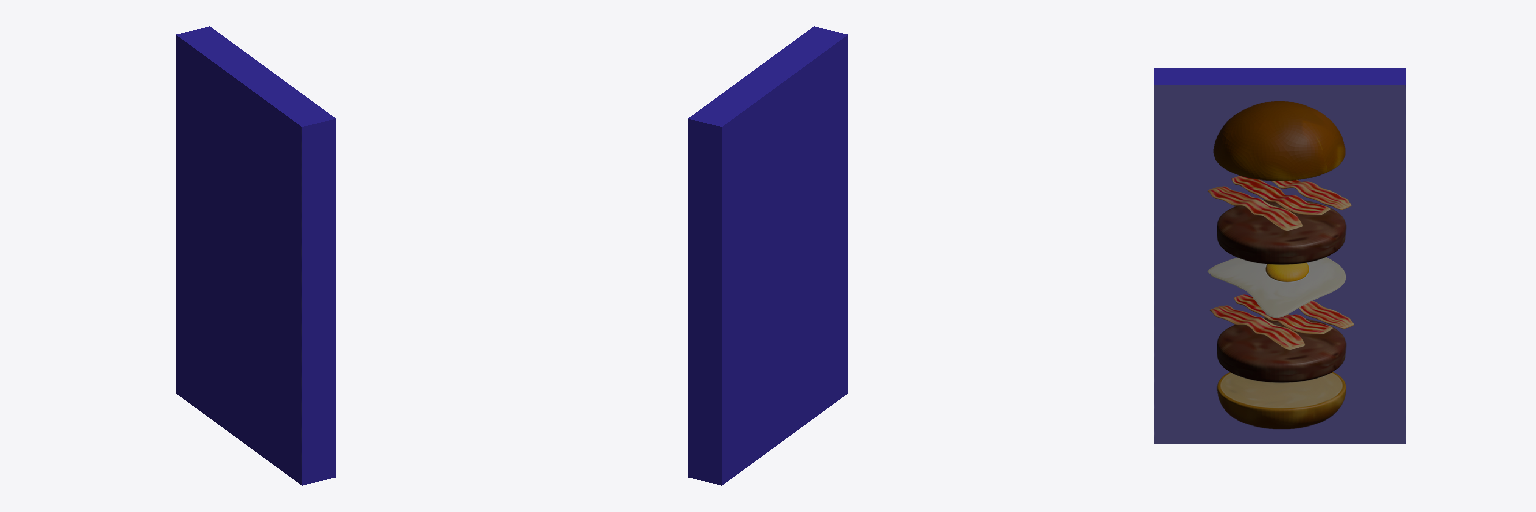
The picture shows the model from 3 angles: view 1: azimuth 30°, elevation 25°; view 2: azimuth 150°, elevation 25°; view 3: azimuth 270°, elevation 25°; orthographic projection.
Visible parts, largest first — view 1: Cube; view 2: Cube; view 3: Cube.
Boxes of the visible parts, x1,y1,x2,y2 form: Cube: [176, 26, 335, 485]; Cube: [688, 26, 847, 485]; Cube: [1154, 68, 1405, 443].
Size of the model in its own units: 0.313 by 3.14 by 2.
Materials: 1 (1 with a texture image).